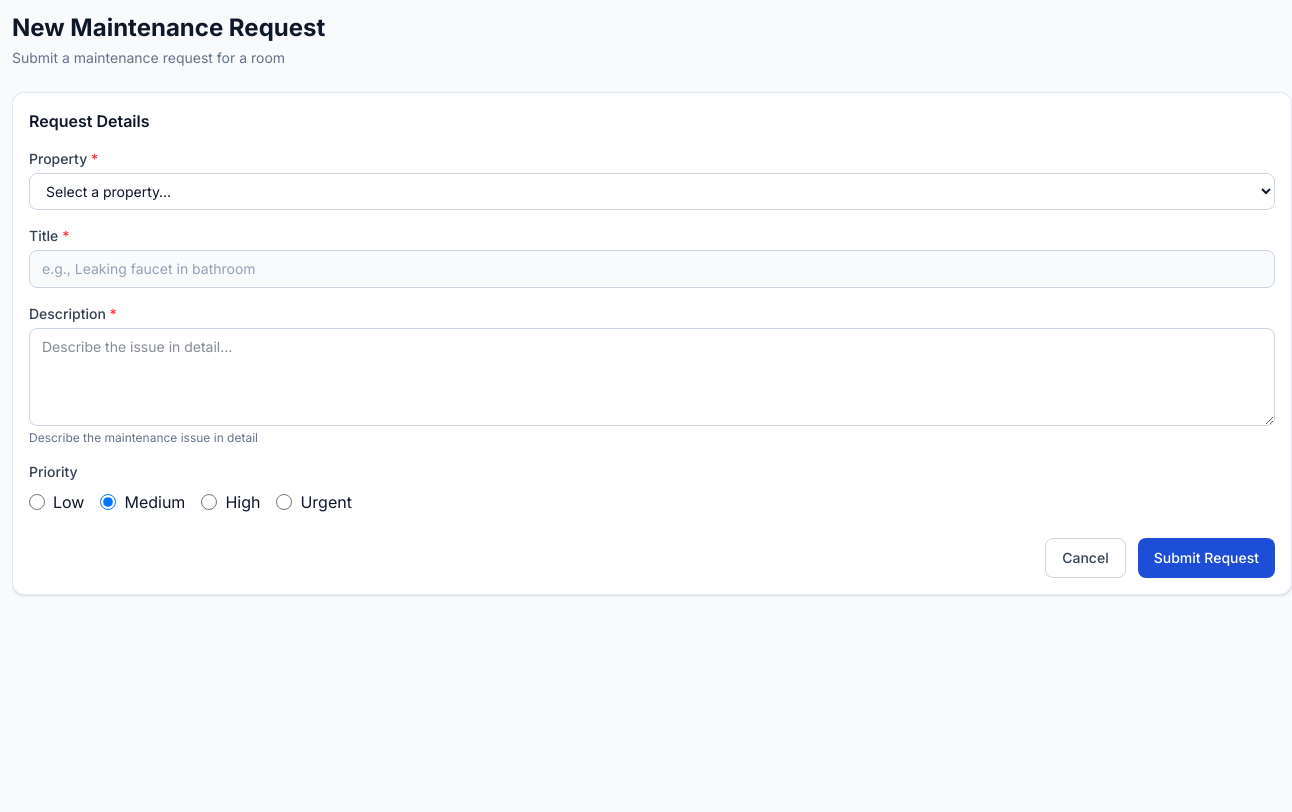
Scenario: MaintenanceFormPage › form submission › submits form successfully with valid data
Select "Sunset Tower" in the dropdown labelled "Property *" at x=652, y=192, box [29,173,1275,210]
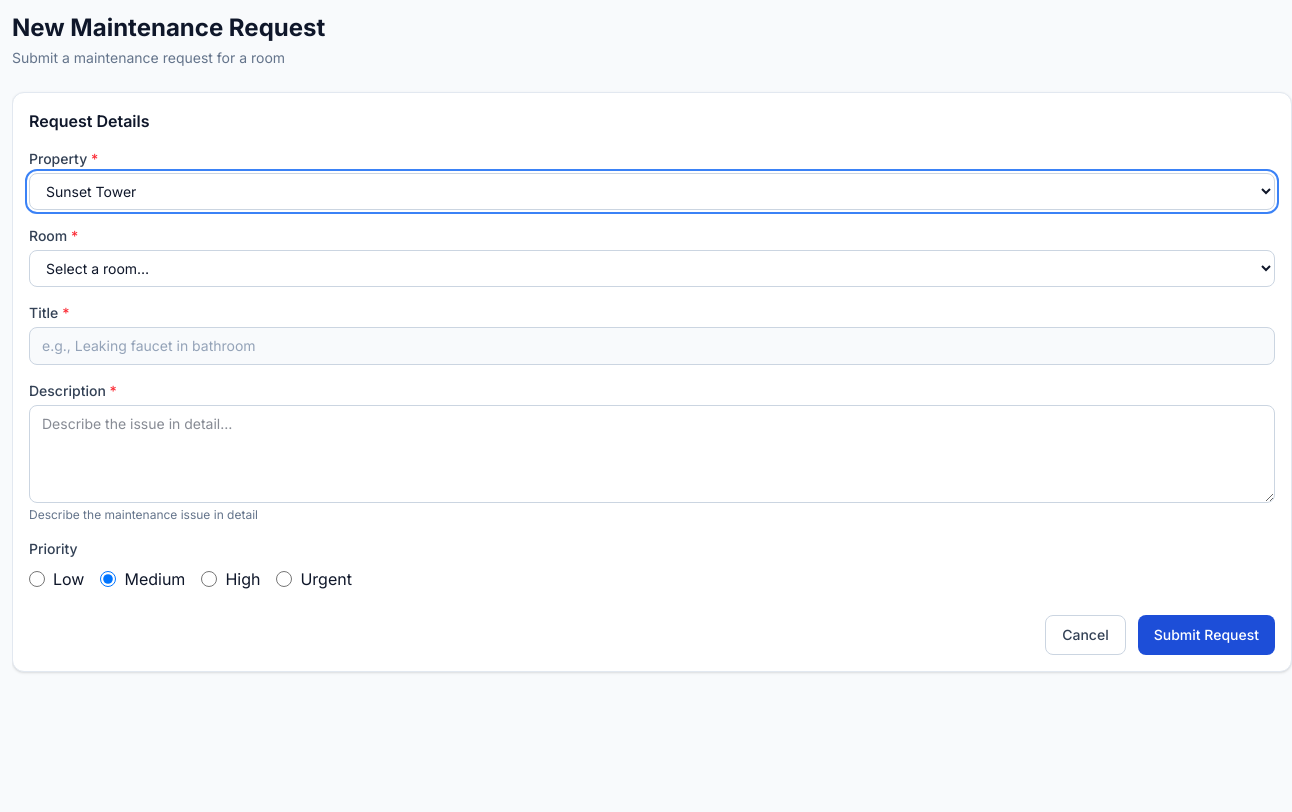
Result: the dropdown labelled "Room *" is shown
Select "101 (studio) - available" in the dropdown labelled "Room *" at x=652, y=268, box [29,250,1275,287]
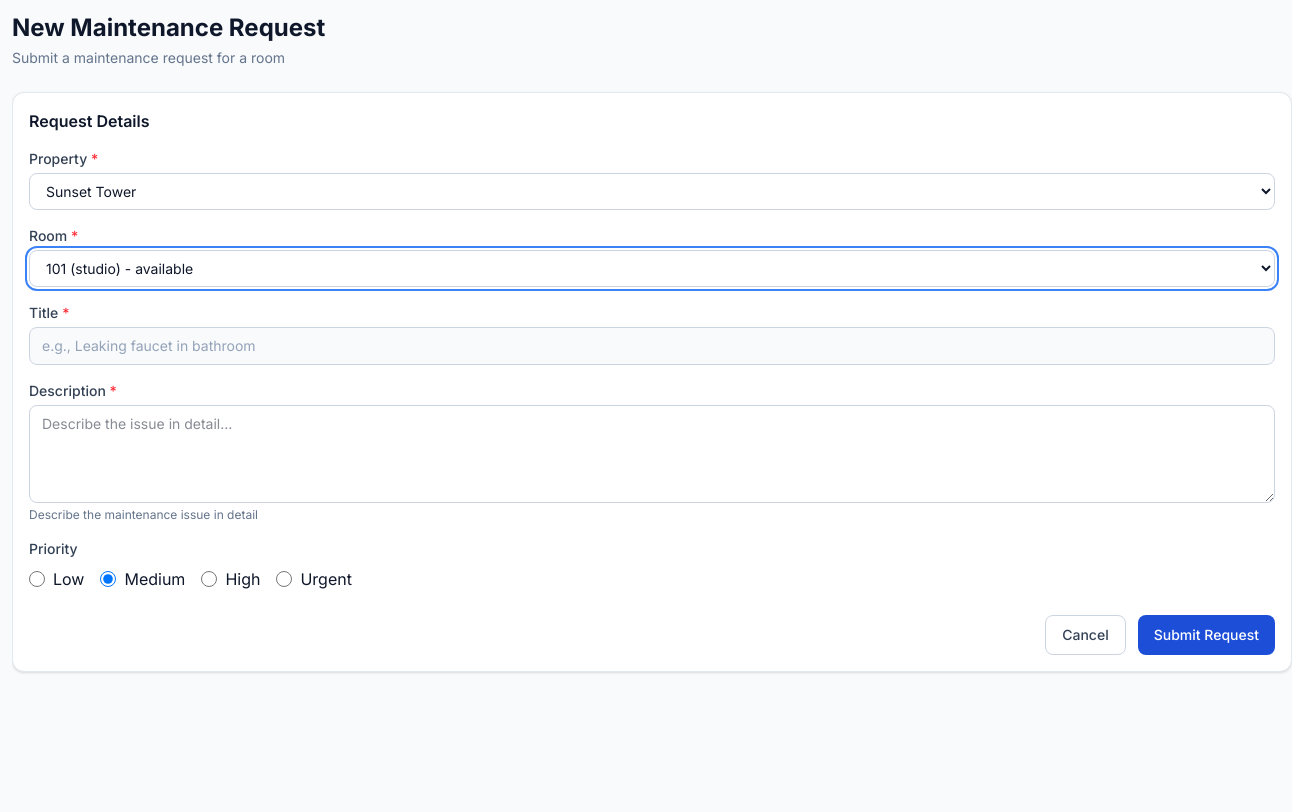
Type "Broken window" into the field labelled "Title*".
click(652, 346); type("Broken window")  # box [29,327,1275,365]
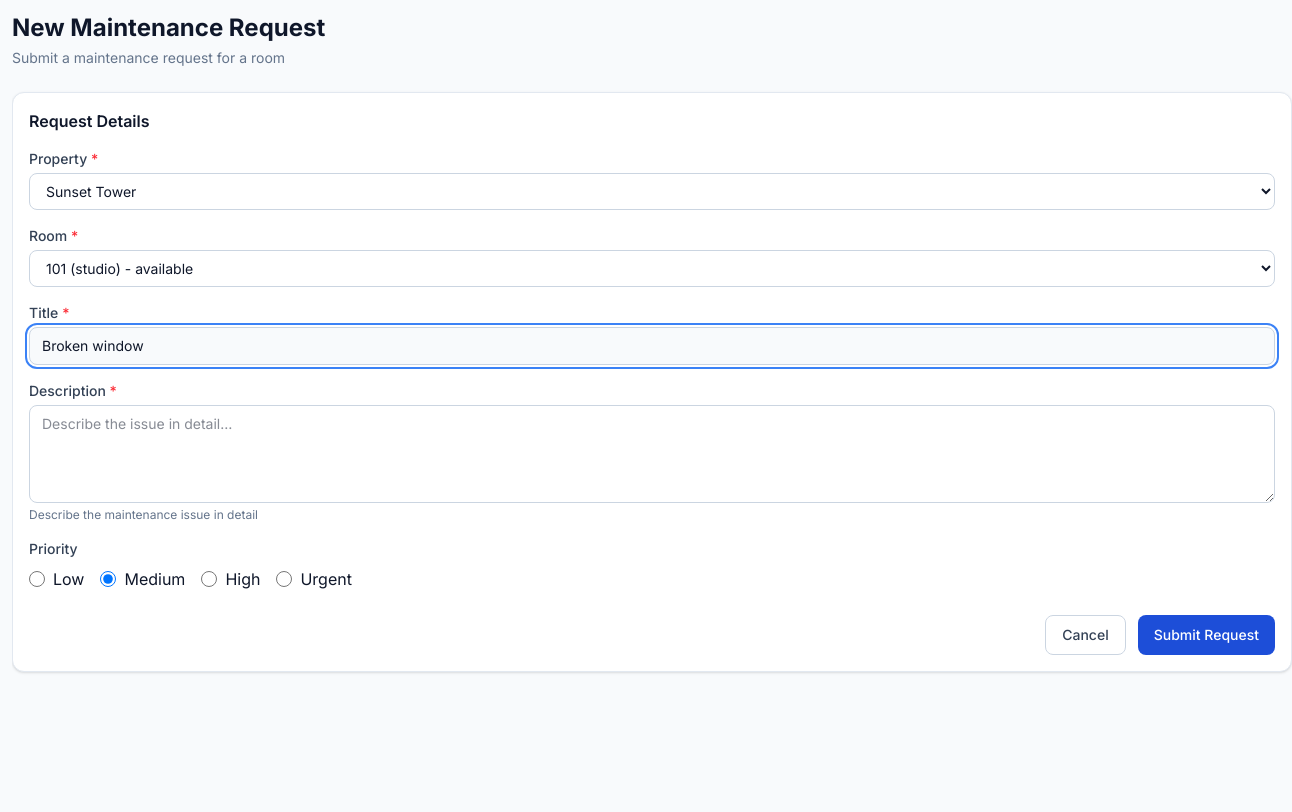
Type "Window in living room will not close" into the text box labelled "Description *".
click(652, 454); type("Window in living room will not close")  # box [29,405,1275,503]
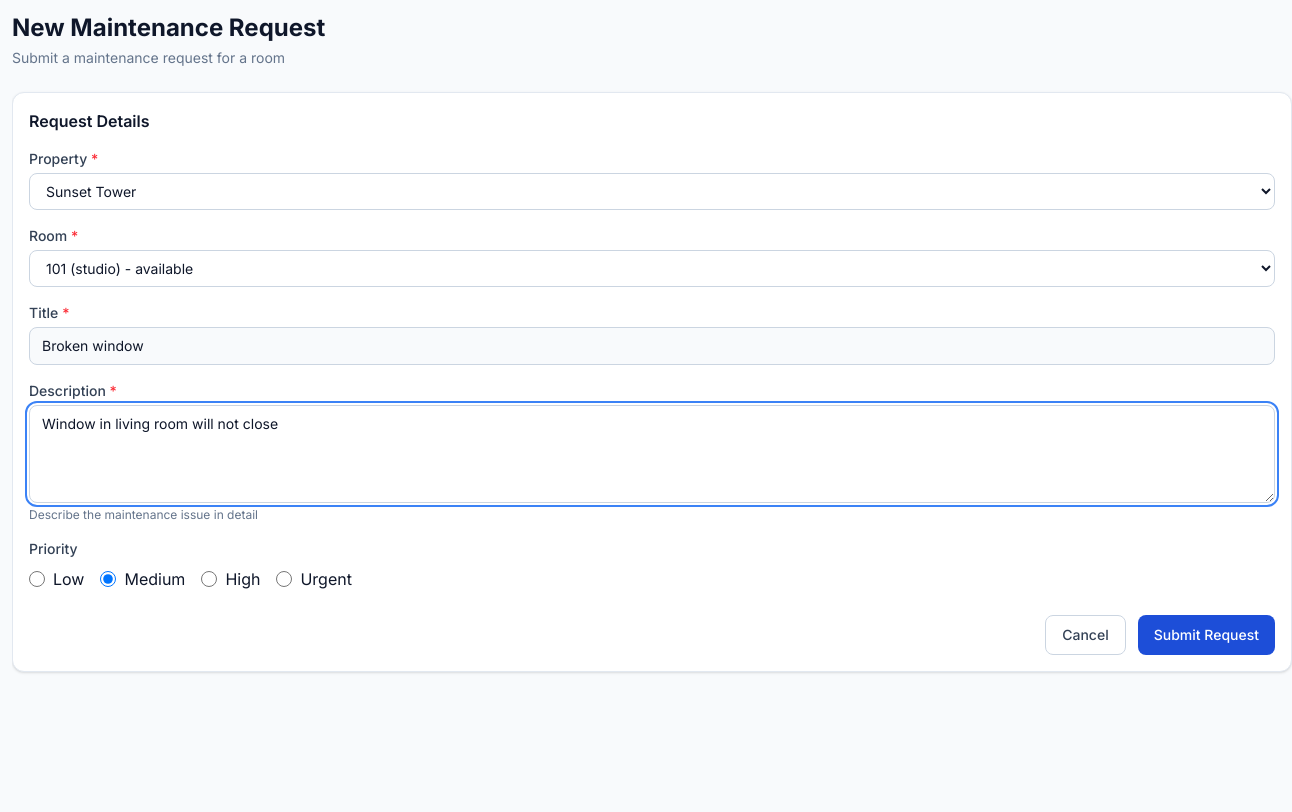
Click the radio button labelled "high".
click(209, 579)  # box [201,571,217,587]
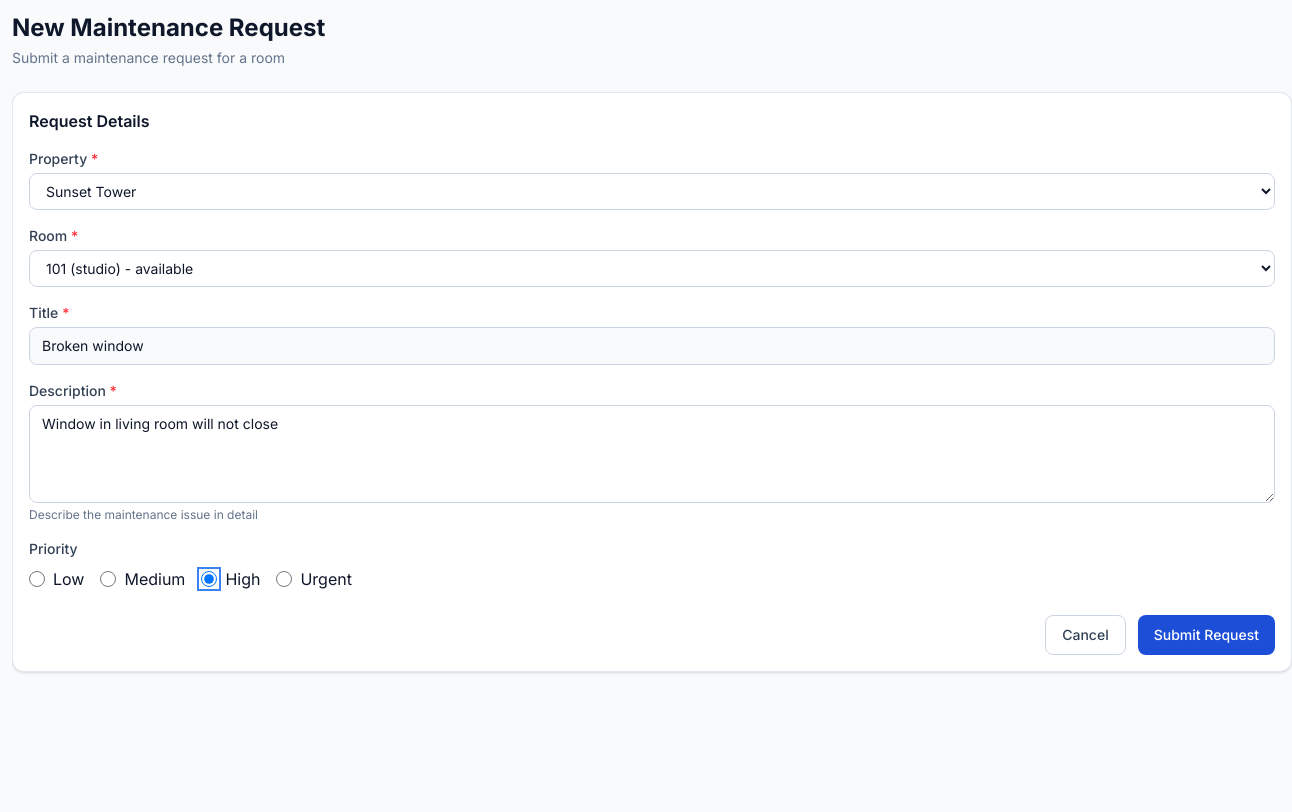
Click the button "Submit Request".
click(1206, 635)  # box [1138,615,1275,655]
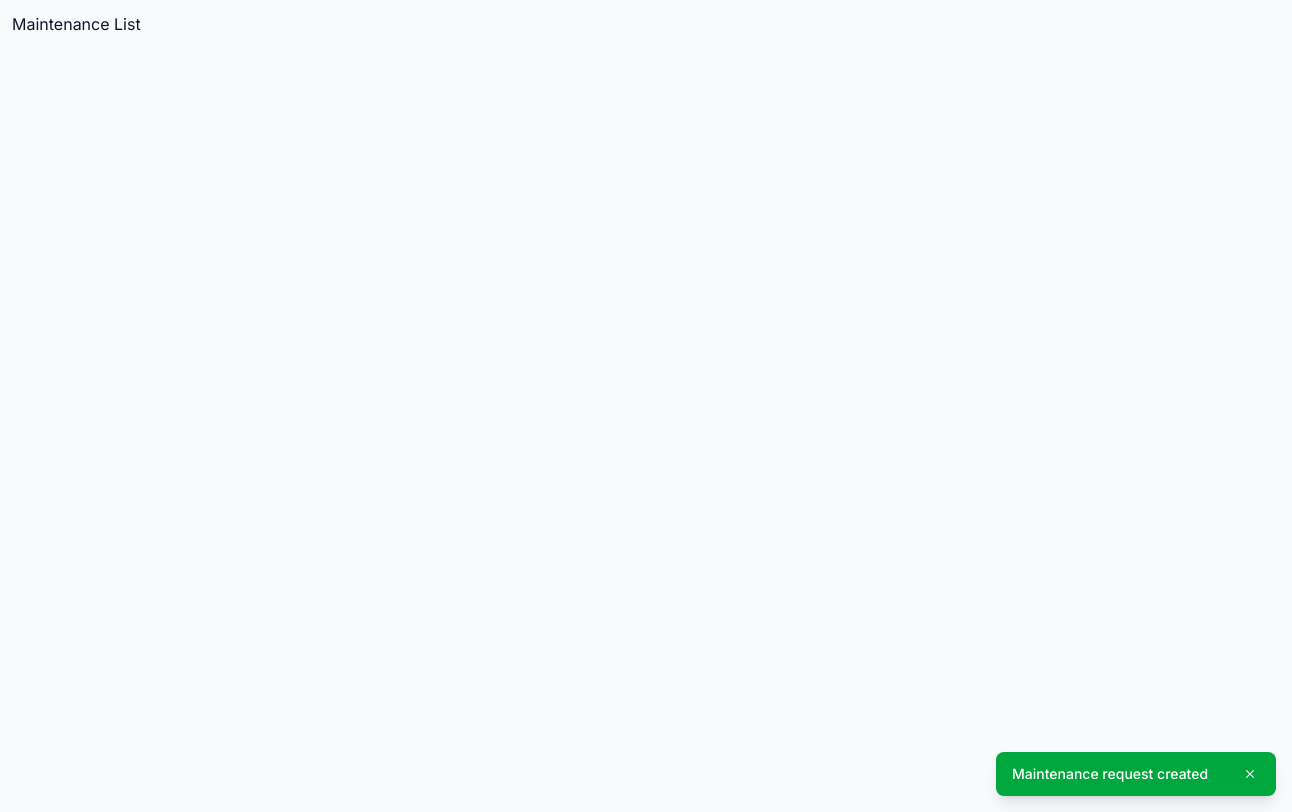
Result: the text "Maintenance request created" is shown at [1012,764,1228,784]
Result: the text "Maintenance List" is shown at [12,14,141,34]
